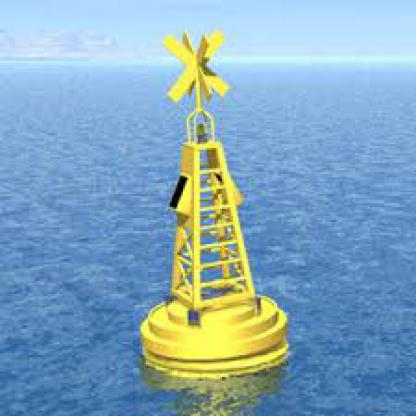buoy: (135, 24, 299, 386)
